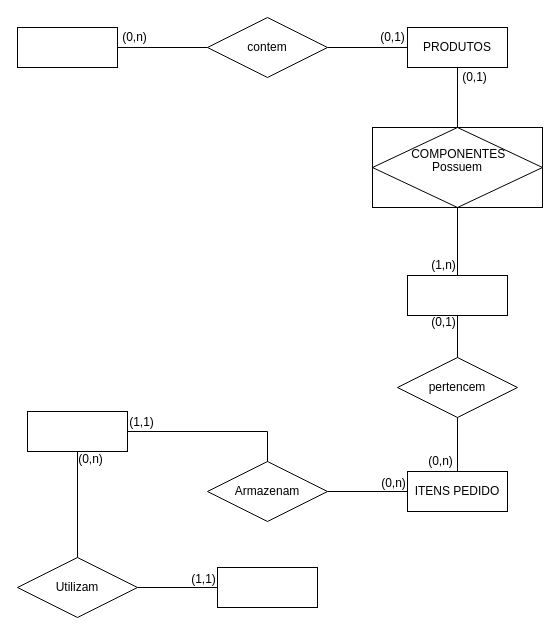
Some shapes in this 560 by 635 pixel diagram are drawn without their labels. The box of each missing label's shape, as (x1, y1, x2, y2) in pixels:
CABEÇALHO PEDIDO: (26, 410, 128, 452)
CARDAPIO: (406, 274, 508, 316)
ESTOQUE: (16, 26, 118, 68)
MESA: (216, 566, 318, 608)
